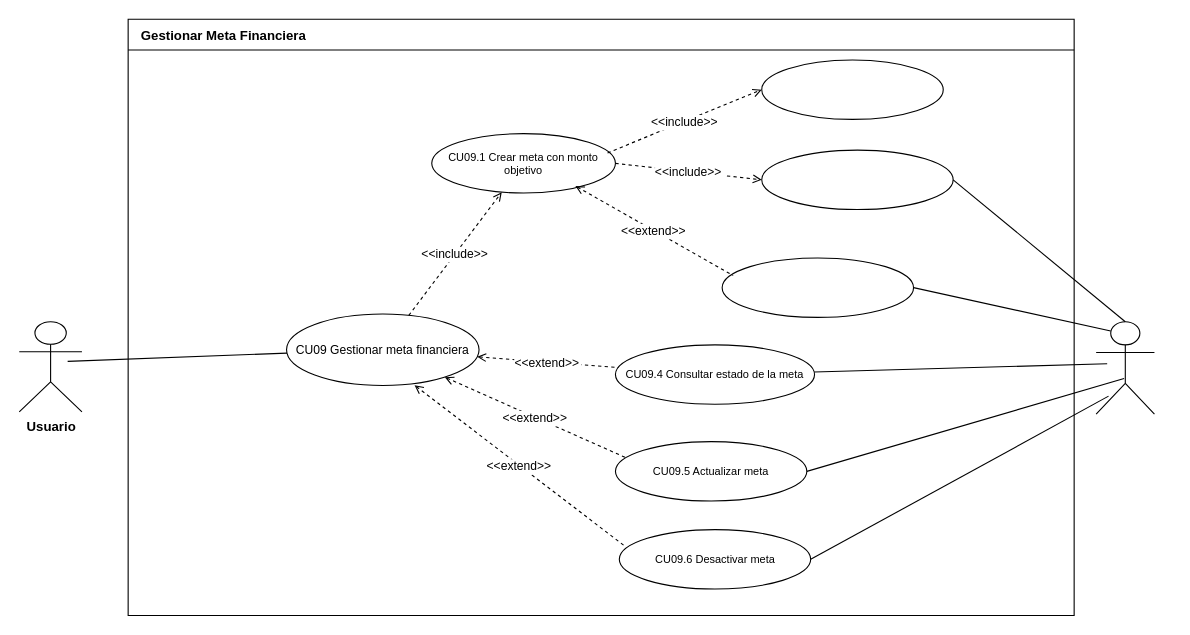
The diagram is 1190 pixels wide and 635 high, and some of its shapes have lost their labels. The shapes that lost their labels are listed below. From the top down, each one's centre as x and y in pixels, then its label:
At (x=852, y=89): "CU09.2 Definir fecha objetivo".
At (x=857, y=179): "CU09.3 Calcular ahorro mensual estimado".
At (x=817, y=287): "CU10.2 generar cuotas para metas".
At (x=1124, y=367): "Base de Datos".
